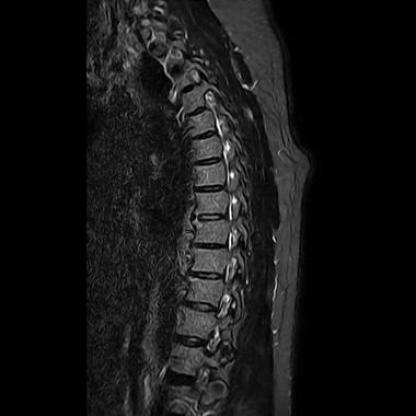Disc Protrusionrotation: (175, 88, 206, 112), (187, 127, 220, 144)
